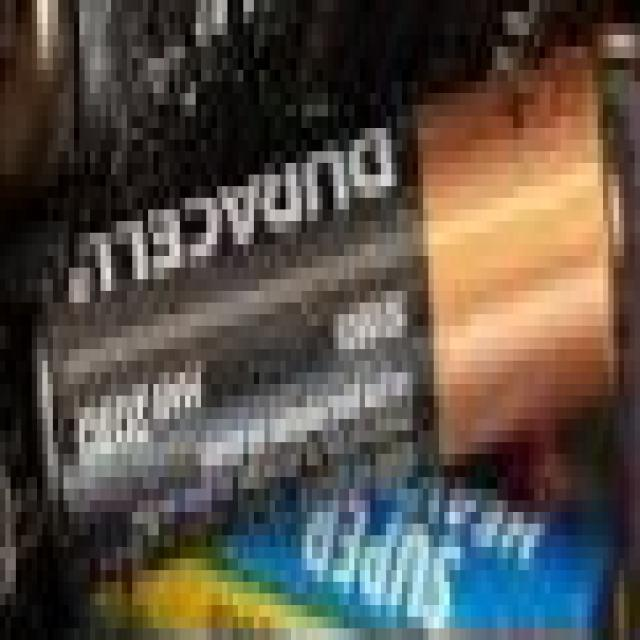battery: (18, 0, 640, 572)
